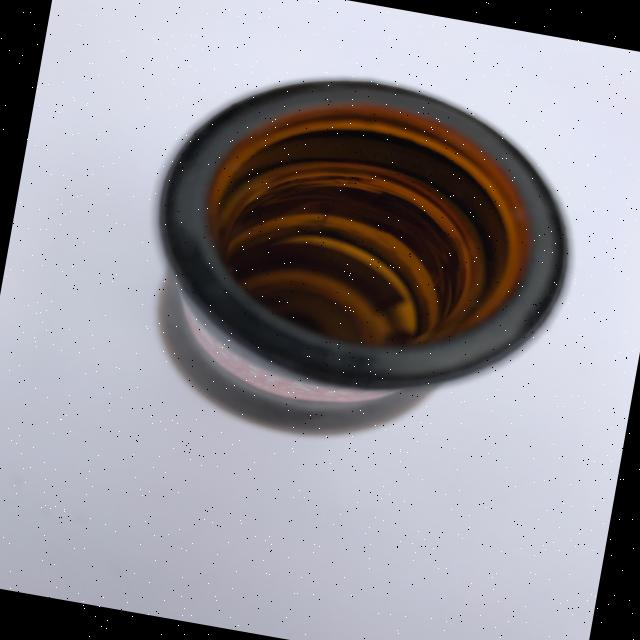glass: (121, 46, 595, 476)
